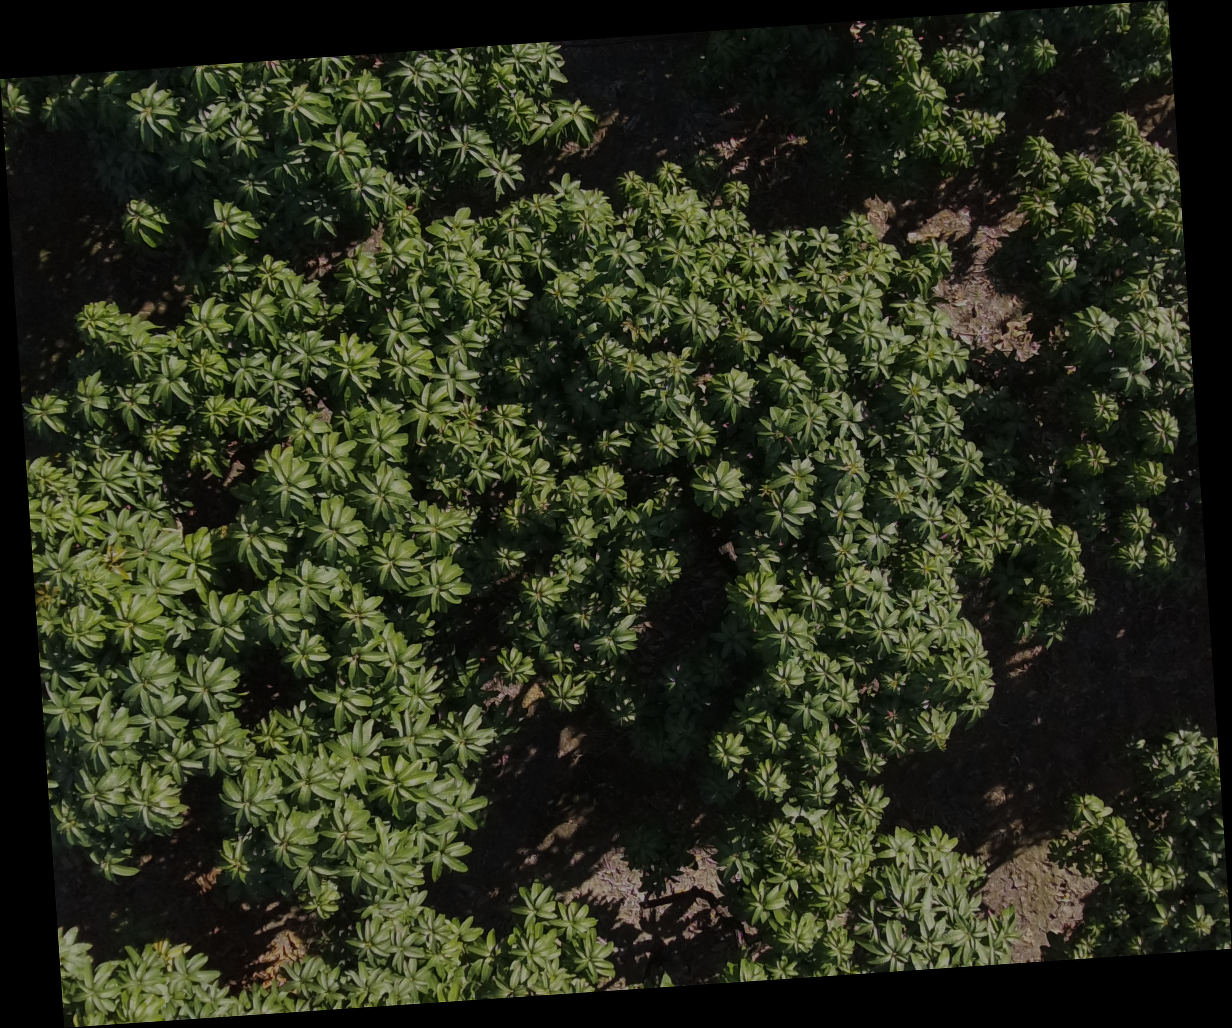flowers: (253, 931, 309, 988)
